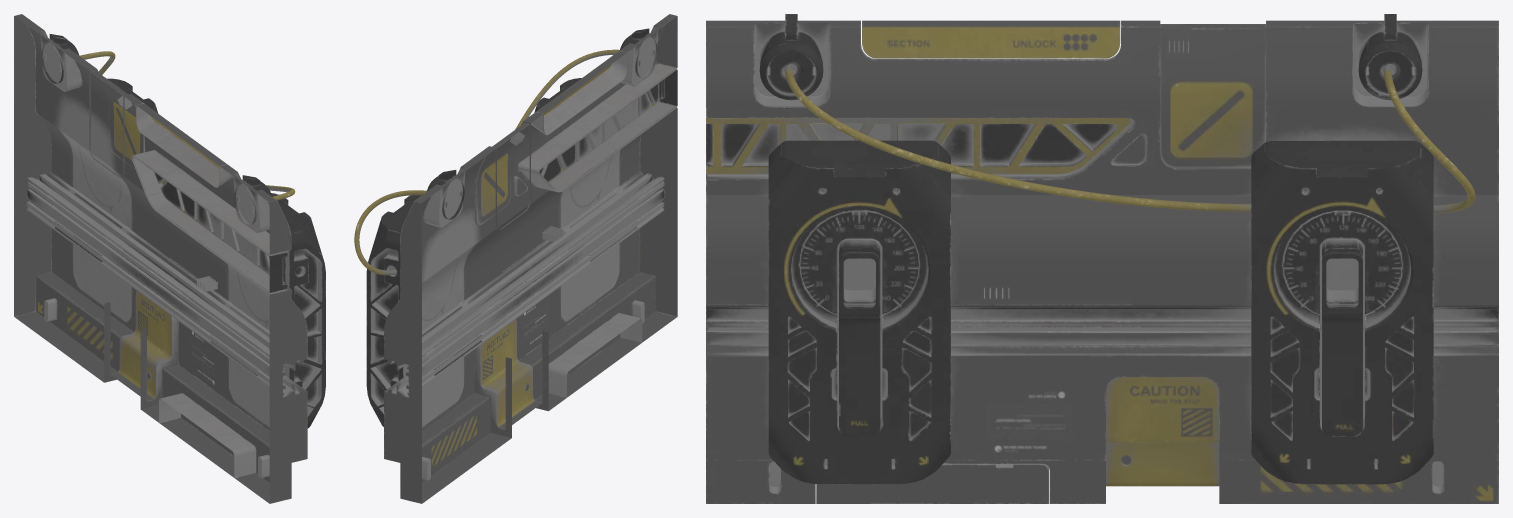
The model's file is b013-opt.glb.
3 renders of one model, left to right at view 1: azimuth 30°, elevation 25°; view 2: azimuth 150°, elevation 25°; view 3: azimuth 270°, elevation 25°, orthographic. The views are drawn at different scales.
Parts seen in each view (by area): view 1: Box.013; view 2: Box.013; view 3: Box.013.
Part boxes in pixels (x1,y1,x2,y2): Box.013: (14,14,325,503); Box.013: (354,14,677,503); Box.013: (706,14,1498,503).
Size of the model in its own units: 0.8927 by 3 by 4.53.
Materials: 1 (1 with a texture image).
